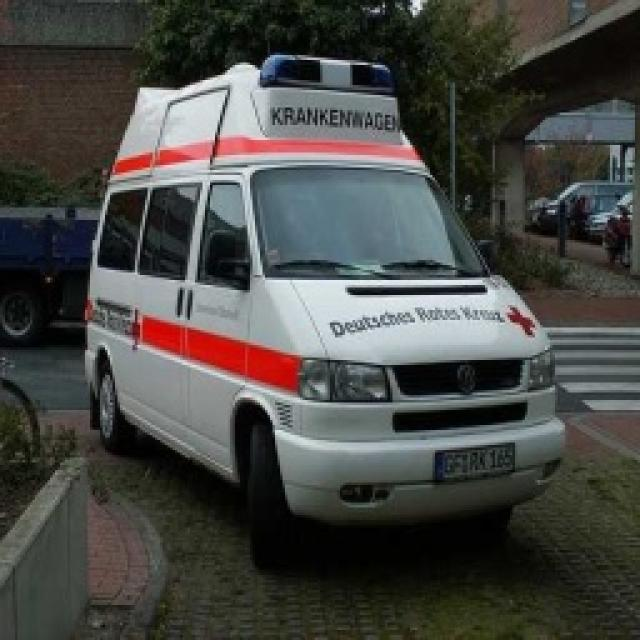emergency-vehicle: (88, 56, 563, 554)
